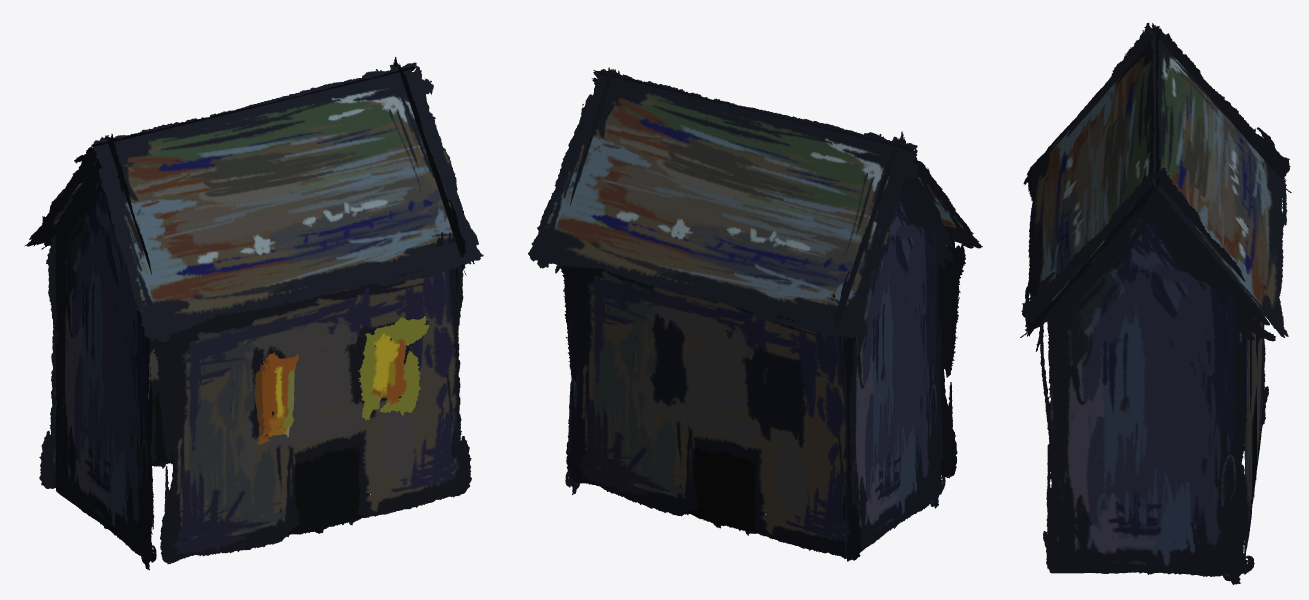
Rendered from house2.FBX.
The picture shows the model from 3 angles, left to right: view 1: azimuth 30°, elevation 25°; view 2: azimuth 150°, elevation 25°; view 3: azimuth 270°, elevation 25°; orthographic projection. The views are drawn at different scales.
Visible parts, largest first — view 1: Plane019, Plane022, Plane023; view 2: Plane019; view 3: Plane019.
Part boxes in pixels (bbox=[...]): Plane019: bbox=[24, 57, 483, 570]; Plane022: bbox=[358, 316, 428, 420]; Plane023: bbox=[254, 352, 298, 444]; Plane019: bbox=[528, 67, 982, 561]; Plane019: bbox=[1020, 22, 1291, 584].
Bounding box in the file's own units: 430 × 292 × 488.
